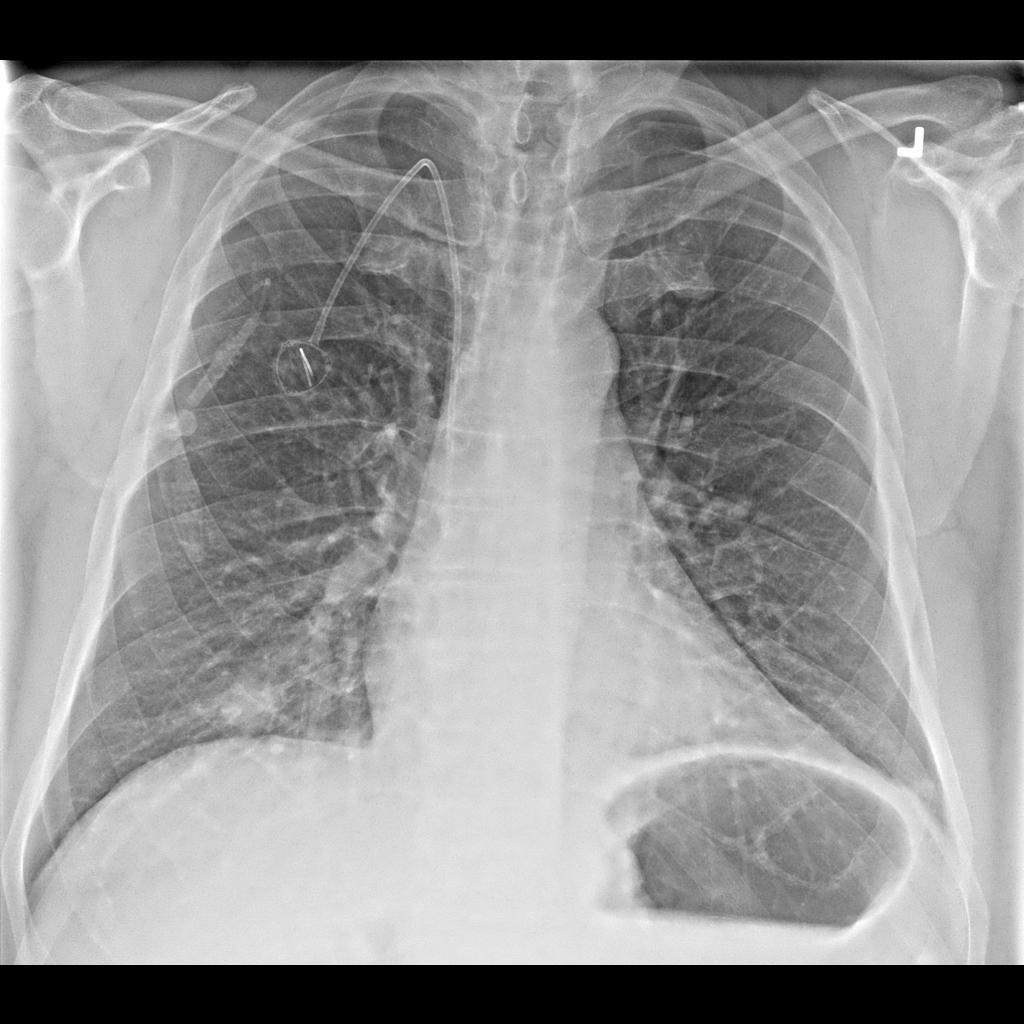Nodule: (215, 679, 301, 738)
